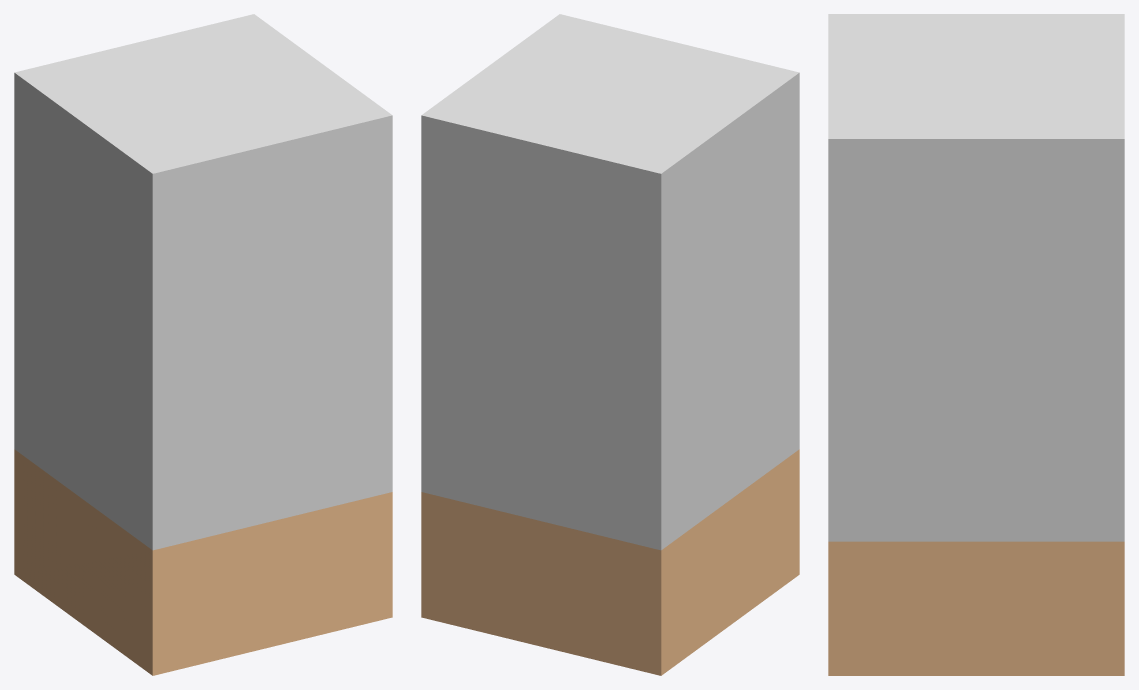
The model's file is leg6.obj.
The picture shows the model from 3 angles, left to right: view 1: azimuth 30°, elevation 25°; view 2: azimuth 150°, elevation 25°; view 3: azimuth 270°, elevation 25°; orthographic projection. The views are drawn at different scales.
Size of the model in its own units: 0.2 by 0.4 by 0.2.
1 material, 1 textured.
